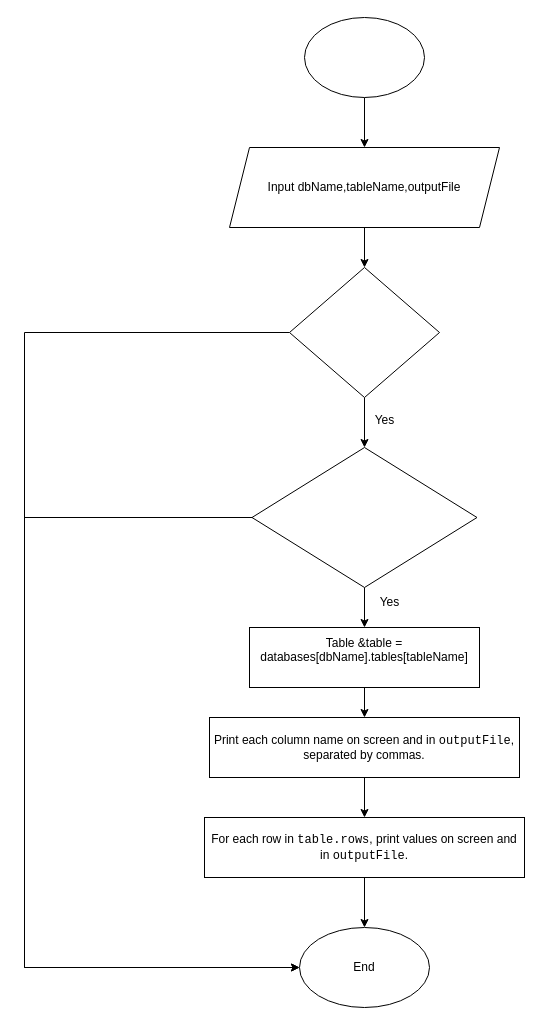
Image size: 542x1025. Some labels were removed from this diagram. The centre of each missing label's shape, as x and y in pixels:
"Check if dbName exists in databases" belongs at [364,332].
"Check if tableName exists in databases[dbName].tables" belongs at [364,517].
"Start" belongs at [364,57].
